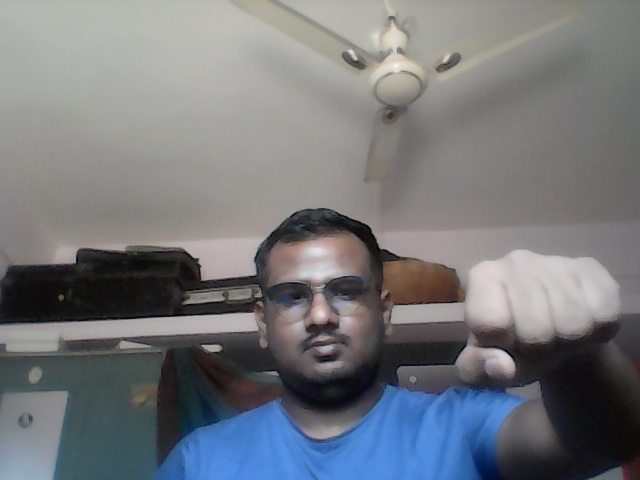Yes: (451, 243, 629, 393)
